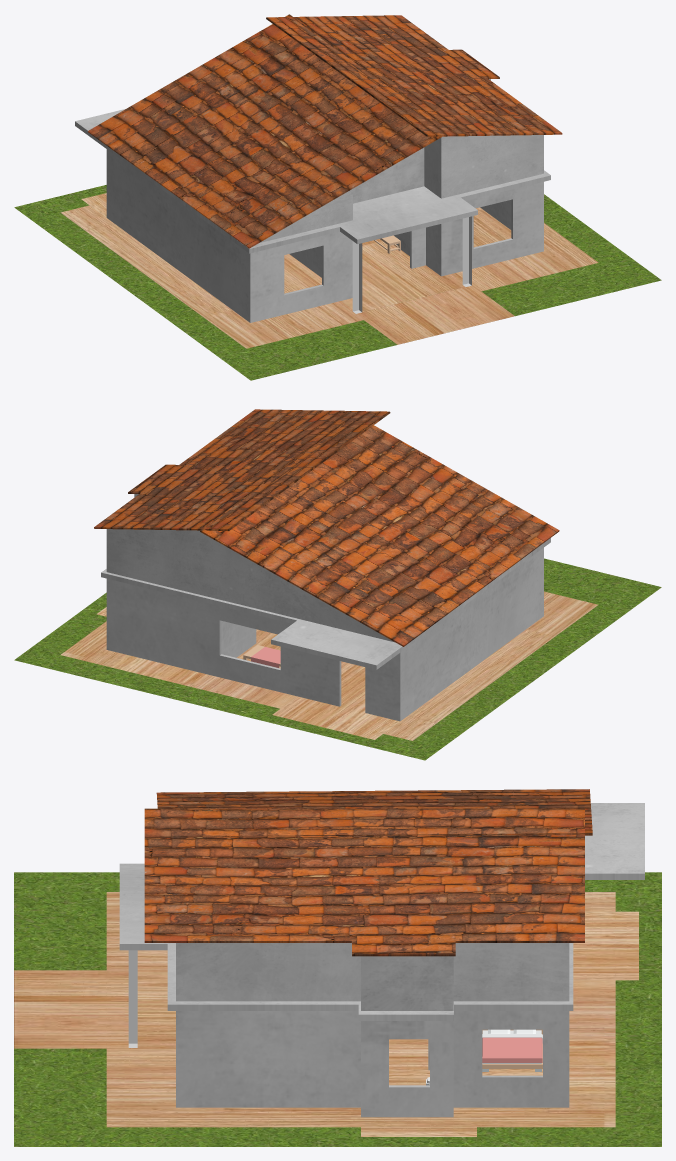
Rendered from casa_acosadamas.glb.
3 views of the same model, one above another, from view 1: azimuth 30°, elevation 25°; view 2: azimuth 150°, elevation 25°; view 3: azimuth 270°, elevation 25° (orthographic). The views are drawn at different scales.
Parts seen in each view (by area): view 1: techo_inclinado_2, paredes, cesped, techo_inclinado, piso_exterior_casa, pared_techo, techo_pano, interior_casa, pared_techo.001, columna.001, columna; view 2: techo_inclinado_2, paredes, techo_inclinado, cesped, pared_techo, piso_exterior_casa, techo_pano, interior_casa, tableCloth(Clone); view 3: techo_inclinado, cesped, paredes, piso_exterior_casa, pared_techo, techo_pano, interior_casa, techo_inclinado_2, cover, columna.
Boxes of the visible parts, x1,y1,x2,y2 form: techo_inclinado_2: [88, 14, 449, 248]; paredes: [106, 149, 543, 322]; cesped: [14, 185, 661, 380]; techo_inclinado: [266, 15, 562, 136]; piso_exterior_casa: [60, 205, 598, 348]; pared_techo: [260, 79, 543, 242]; techo_pano: [75, 109, 550, 253]; interior_casa: [81, 193, 511, 313]; pared_techo.001: [353, 147, 424, 203]; columna.001: [352, 241, 362, 313]; columna: [462, 216, 471, 286]; techo_inclinado_2: [200, 415, 559, 646]; paredes: [106, 548, 543, 721]; techo_inclinado: [94, 409, 390, 530]; cesped: [14, 558, 661, 760]; pared_techo: [106, 419, 394, 642]; piso_exterior_casa: [61, 591, 598, 740]; techo_pano: [101, 538, 550, 669]; interior_casa: [237, 629, 399, 739]; tableCloth(Clone): [243, 645, 280, 668]; techo_inclinado: [144, 808, 584, 956]; cesped: [14, 872, 661, 1146]; paredes: [176, 1011, 569, 1117]; piso_exterior_casa: [14, 892, 615, 1136]; pared_techo: [176, 943, 569, 1010]; techo_pano: [119, 803, 644, 1020]; interior_casa: [129, 911, 638, 1085]; techo_inclinado_2: [156, 789, 592, 836]; cover: [482, 1034, 542, 1062]; columna: [128, 950, 137, 1047].
Bounding box in the file's own units: 14.03 × 5.11 × 14.
Materials: 136 (9 with a texture image).
